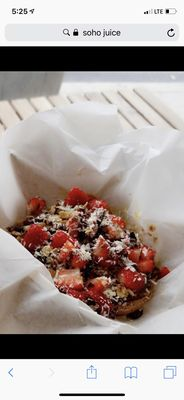soup: (6, 186, 169, 320)
